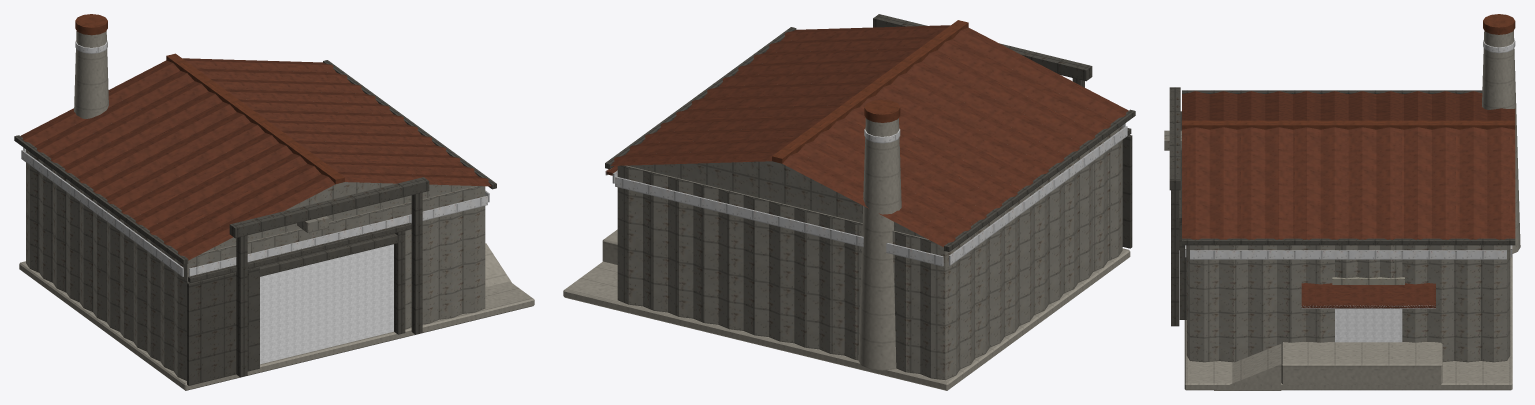
3 views of the same model, side by side, from view 1: azimuth 30°, elevation 25°; view 2: azimuth 150°, elevation 25°; view 3: azimuth 270°, elevation 25° (orthographic). The views are drawn at different scales.
Parts seen in each view (by area): view 1: dweller_building_robotfactory; view 2: dweller_building_robotfactory; view 3: dweller_building_robotfactory.
Part boxes in pixels (x1=…): dweller_building_robotfactory: x1=14, y1=14, x2=534, y2=390; dweller_building_robotfactory: x1=563, y1=14, x2=1135, y2=390; dweller_building_robotfactory: x1=1164, y1=14, x2=1520, y2=390.
Bounding box in the file's own units: 14.92 × 9.6 × 13.25.
8 materials, 8 textured.
